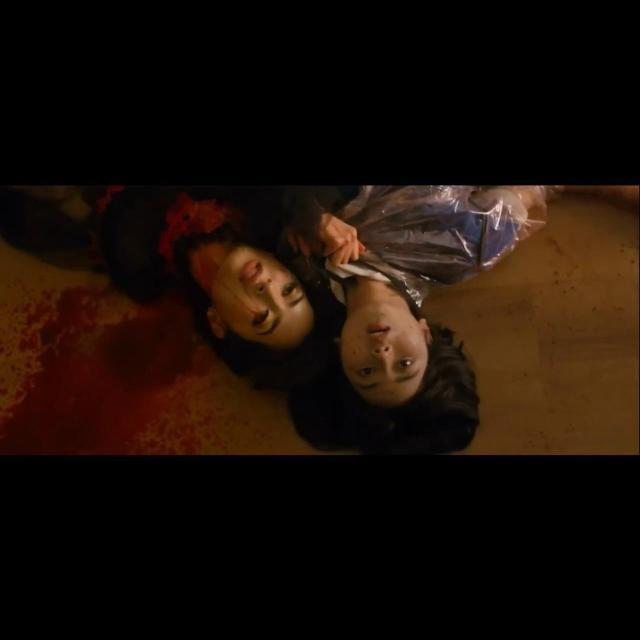blood: (0, 186, 286, 454)
